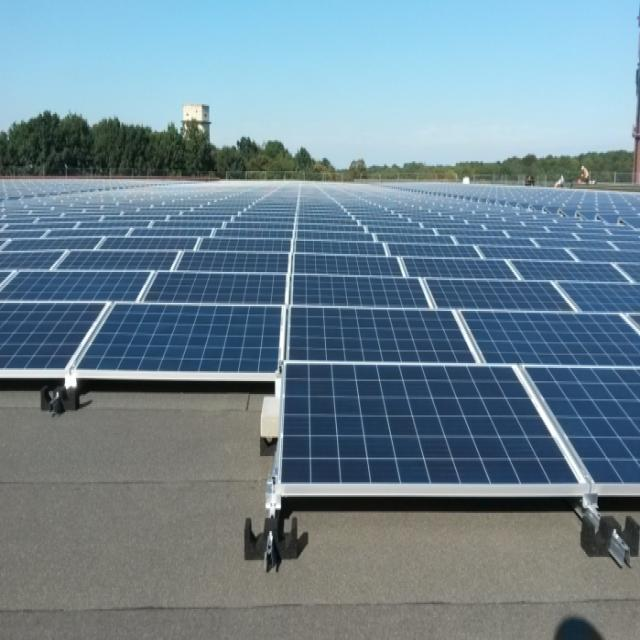clean-solar-panel: (1, 182, 640, 507)
